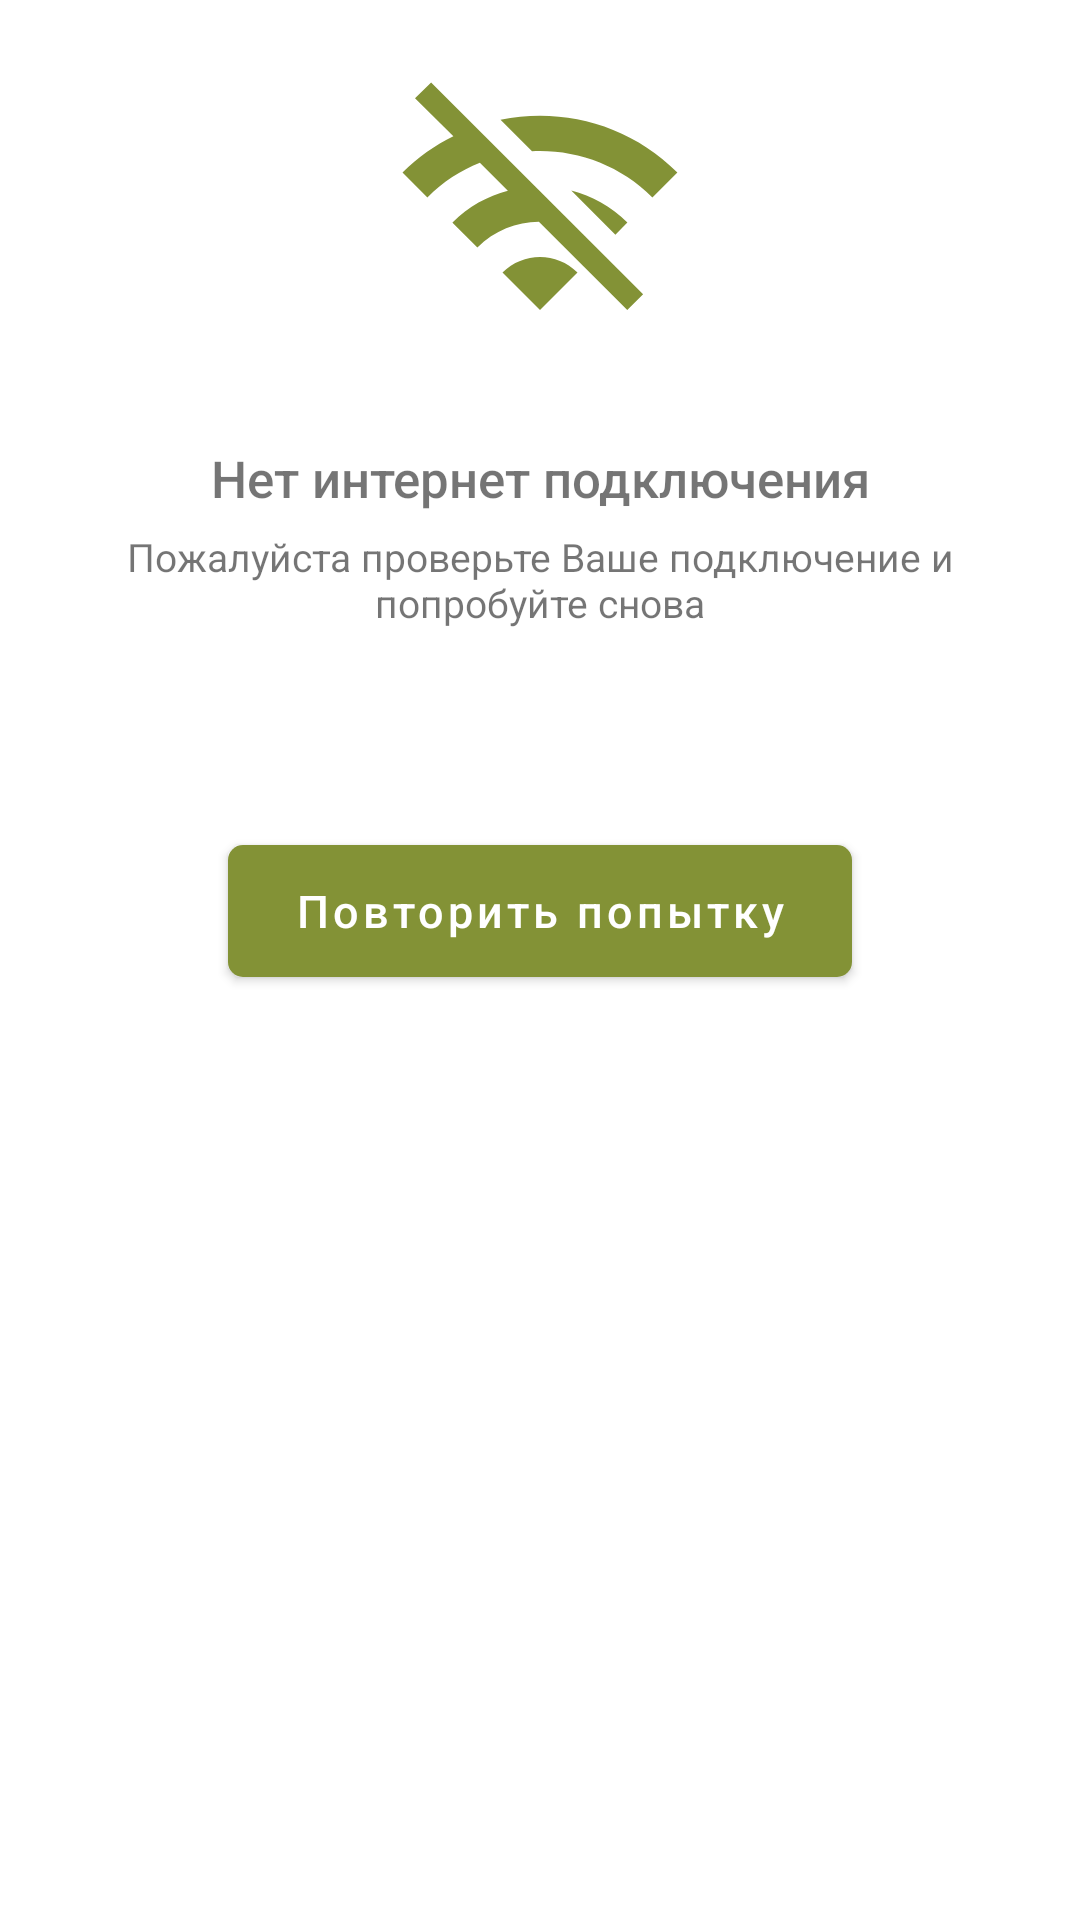

Named icons in this screenshot (1080w x 1920h) and their centers, (x,y):
no connection: (539,196)
